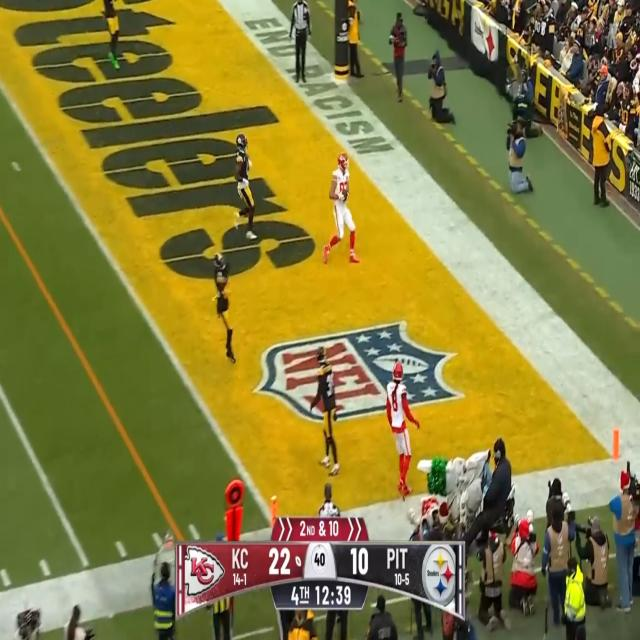Ball: (341, 188, 348, 204)
